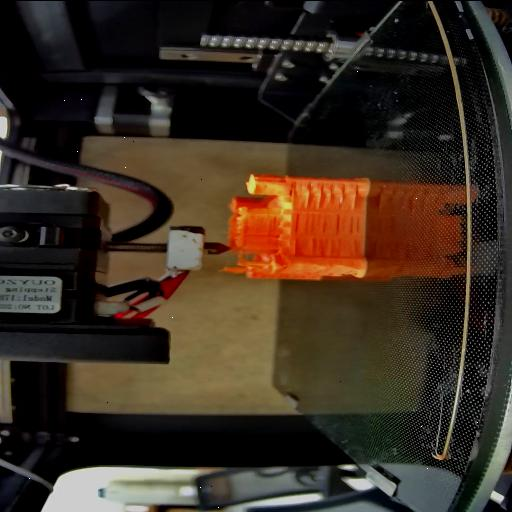cracks: (305, 182, 359, 208), (294, 214, 360, 234), (310, 238, 358, 256), (264, 216, 278, 236), (282, 182, 296, 200), (291, 236, 299, 255)
